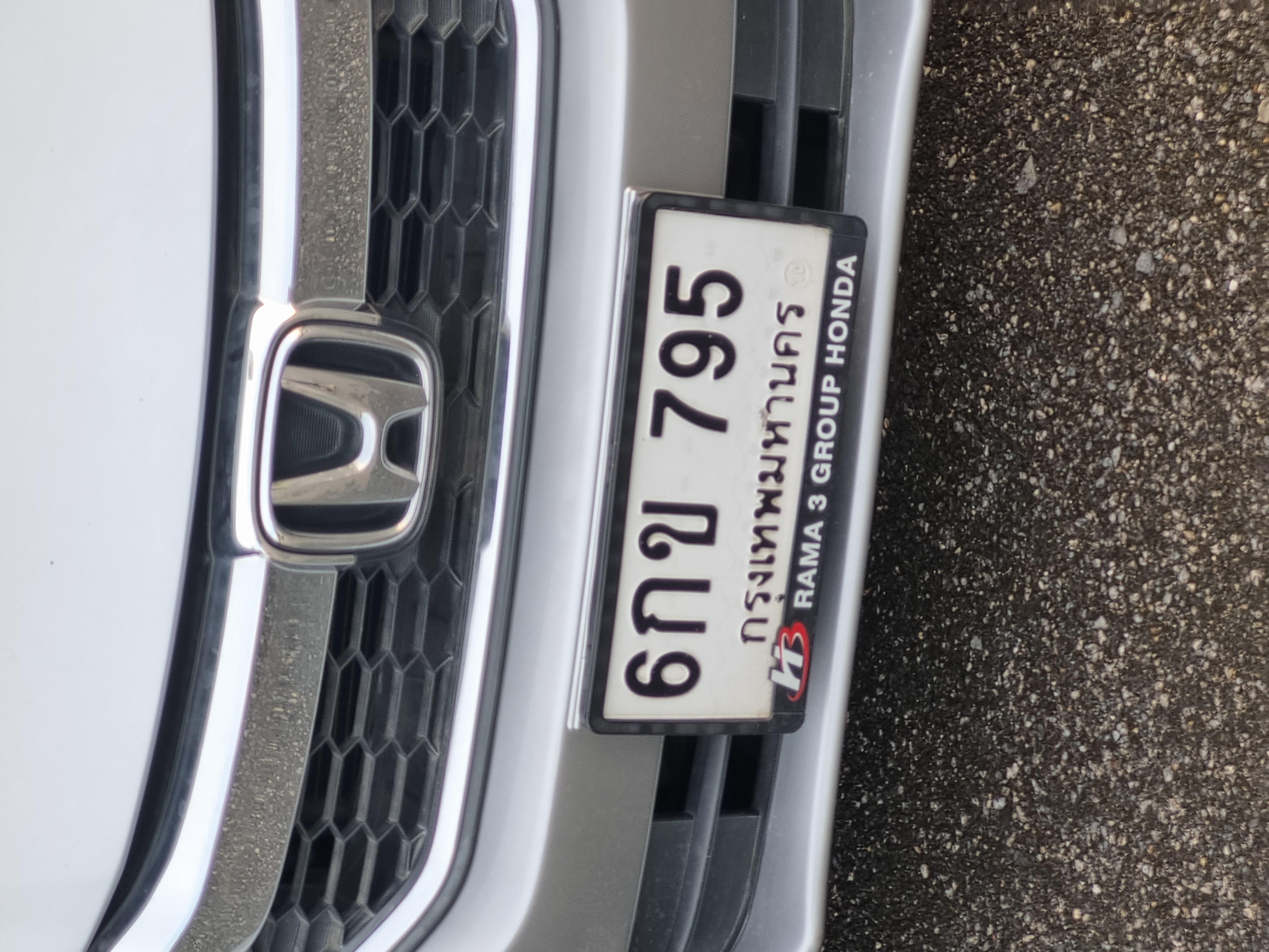license-plate: (278, 420, 1012, 652)
